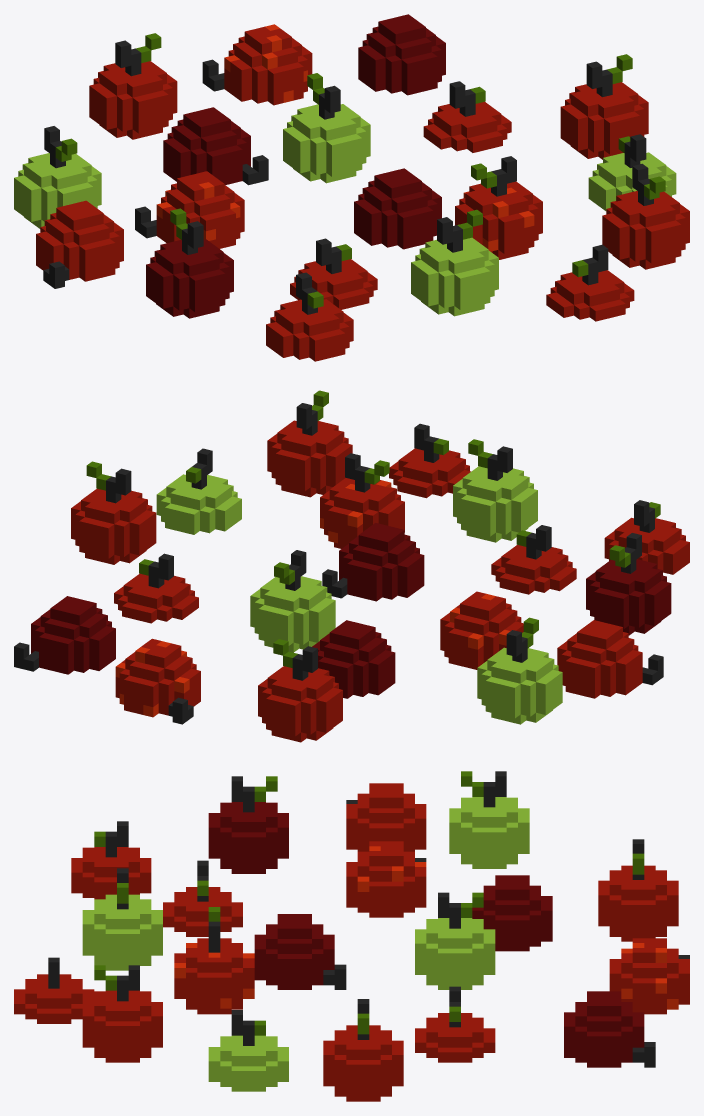
Rendered from apple_inner.obj.
3 views of the same model, one above another, from view 1: azimuth 30°, elevation 25°; view 2: azimuth 150°, elevation 25°; view 3: azimuth 270°, elevation 25° (orthographic). The views are drawn at different scales.
Visible parts, largest first — view 1: apple_inner; view 2: apple_inner; view 3: apple_inner.
Boxes of the visible parts, x1,y1,x2,y2 form: apple_inner: (14,14,689,361); apple_inner: (14,390,689,742); apple_inner: (14,771,689,1101).
Bounding box in the file's own units: 118 × 16 × 118.
Materials: 1 (1 with a texture image).
